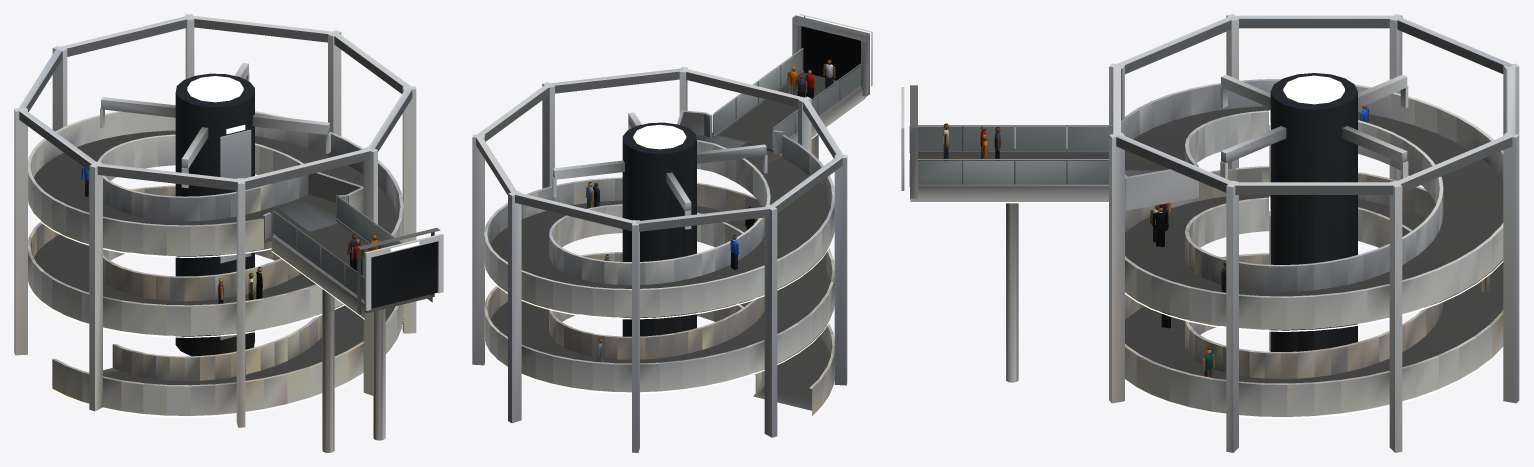
Rendered from stand_main_kit_0.glb.
3 views of the same model, side by side, from view 1: azimuth 30°, elevation 25°; view 2: azimuth 150°, elevation 25°; view 3: azimuth 270°, elevation 25° (orthographic). The views are drawn at different scales.
Visible parts, largest first — view 1: kit_0; view 2: kit_0; view 3: kit_0.
Boxes of the visible parts, <box> form: kit_0: <box>14,14,443,452</box>; kit_0: <box>472,14,872,452</box>; kit_0: <box>901,14,1519,452</box>.
Bounding box in the file's own units: 16.02 × 12.31 × 24.12.
